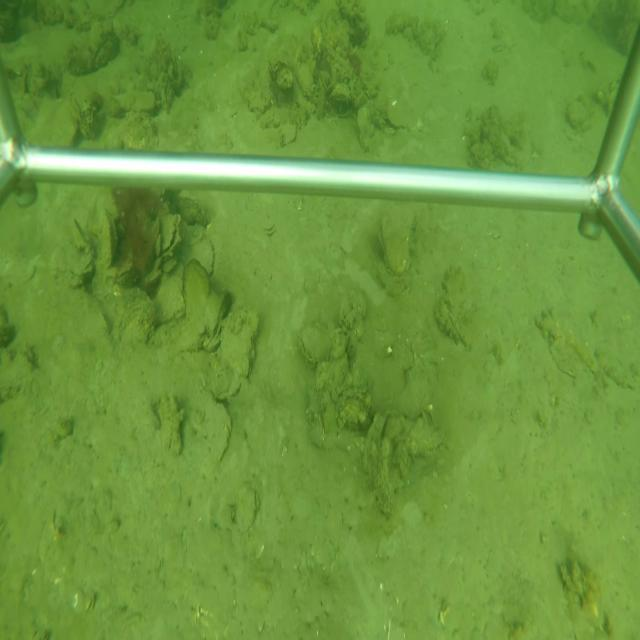Oyster-Closed: (378, 204, 416, 279), (218, 307, 254, 383), (295, 322, 332, 370), (406, 419, 447, 457), (294, 58, 314, 99), (356, 104, 371, 151)
Oyster-Indeterminate: (444, 265, 475, 352), (213, 400, 234, 465), (234, 487, 259, 536), (190, 238, 214, 275), (386, 94, 407, 129)
Oyster-Open: (100, 205, 120, 268), (160, 213, 181, 261)
